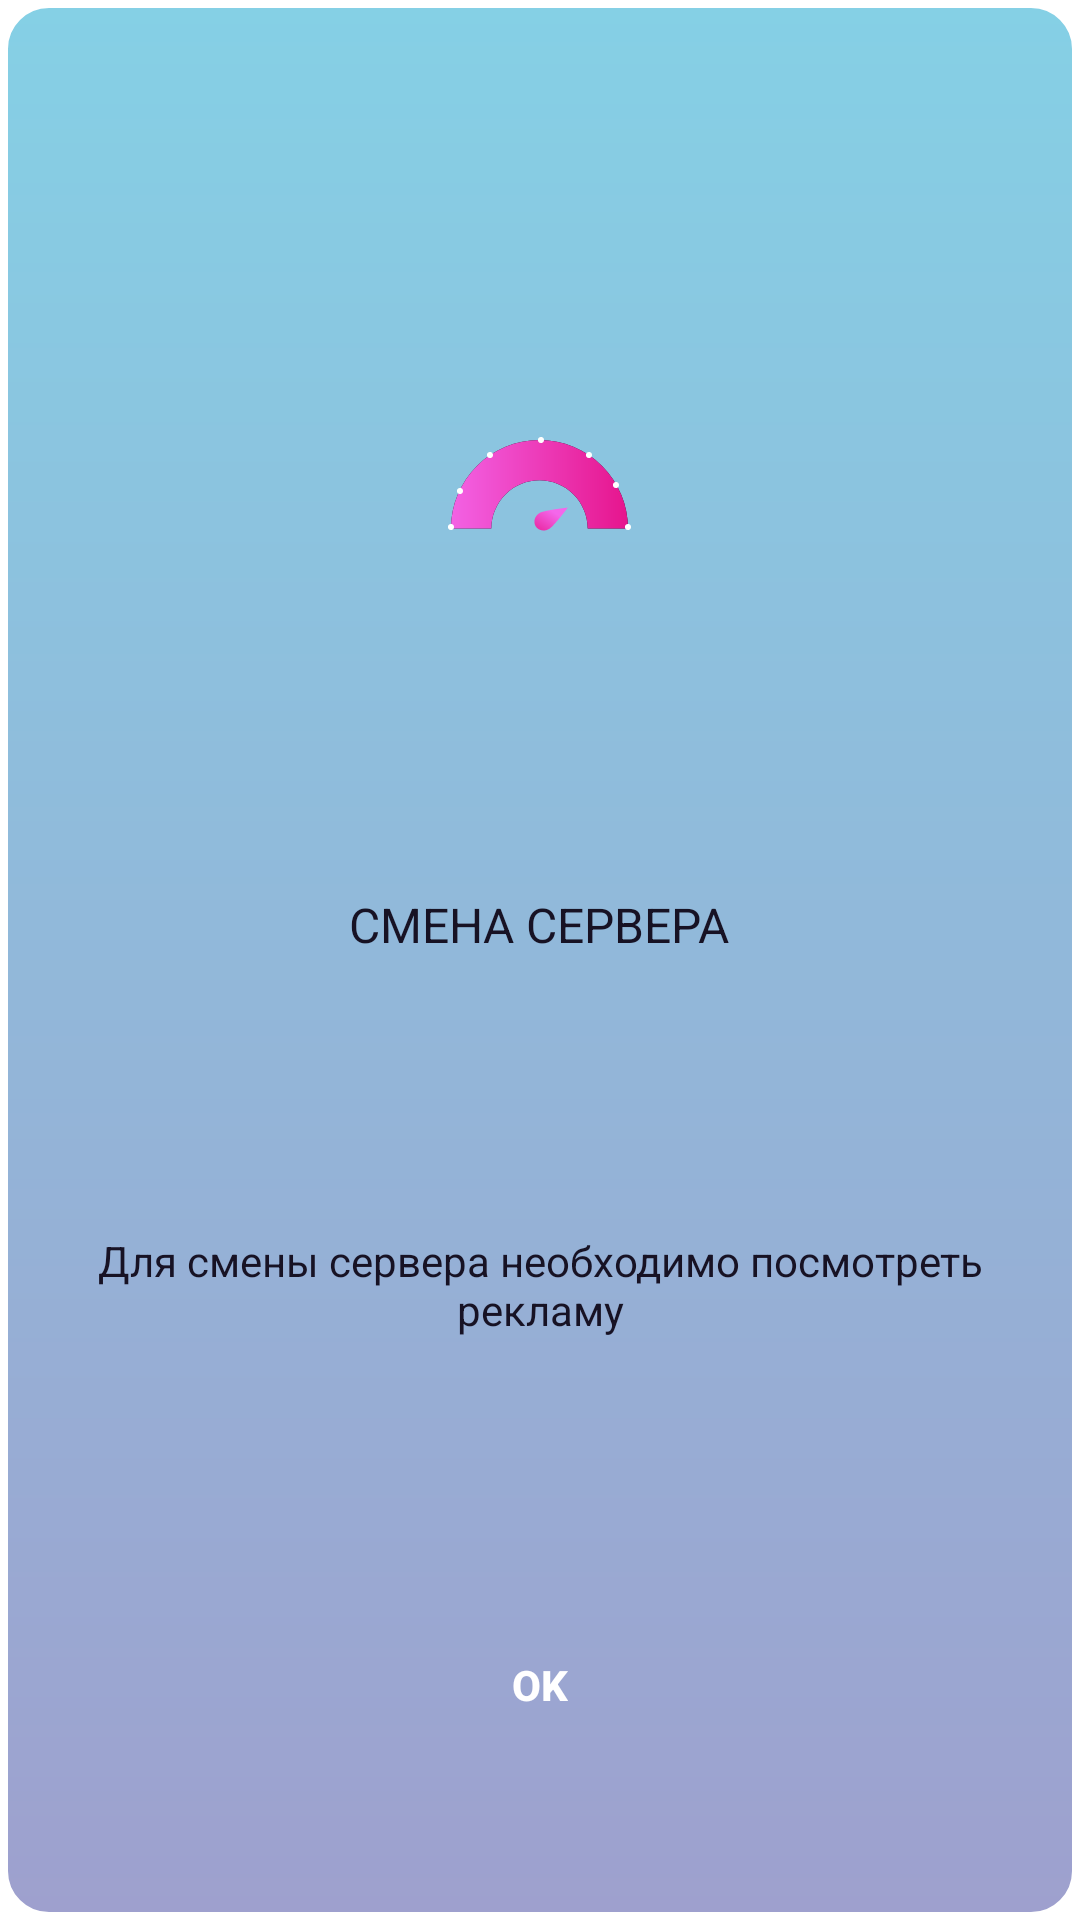

Screen size 1080px x 1920px. Icon name, then its box in pixels as bbox(x1, y1, x2, y2):
full metric: bbox(448, 437, 631, 531)
